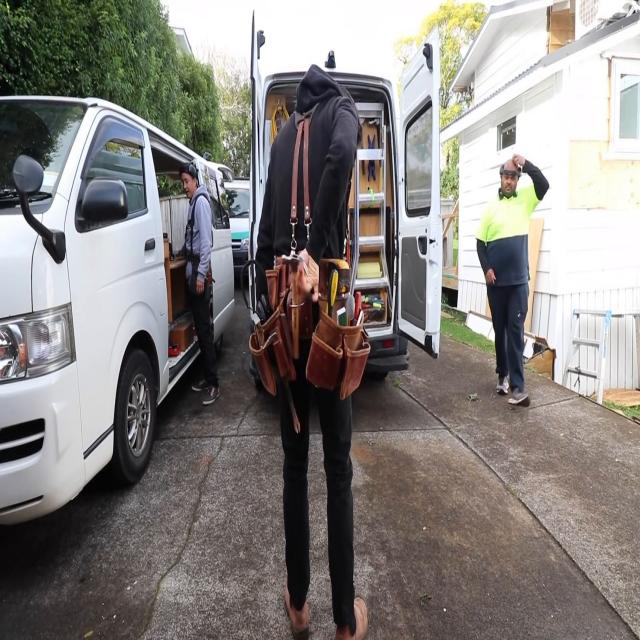hammer: (282, 255, 307, 358)
